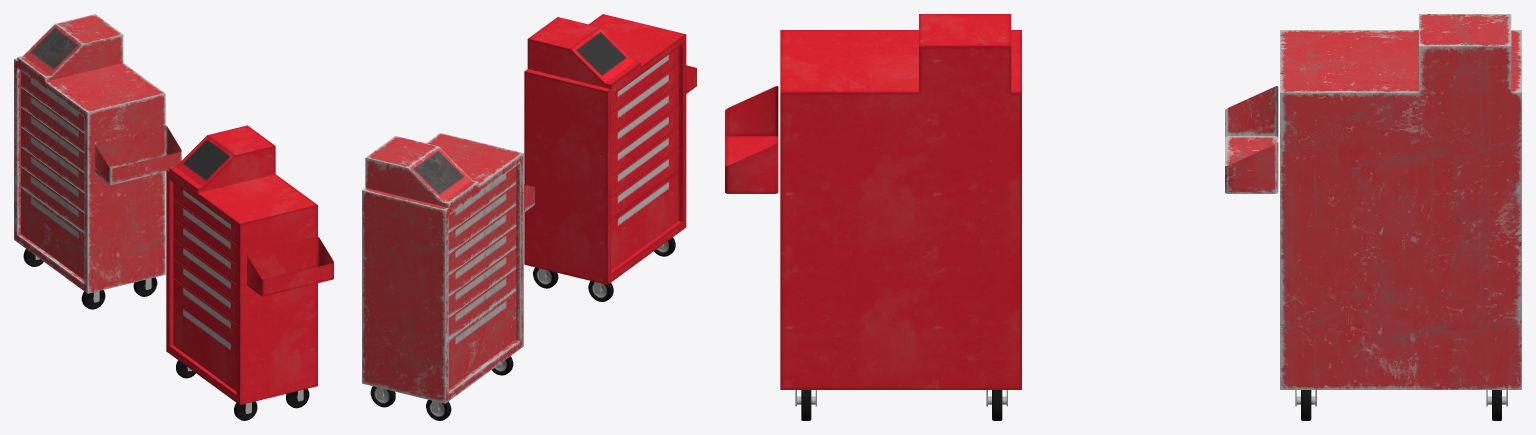
File: tool_trolleys.glb
The picture shows the model from 3 angles, left to right: view 1: azimuth 30°, elevation 25°; view 2: azimuth 150°, elevation 25°; view 3: azimuth 270°, elevation 25°; orthographic projection. The views are drawn at different scales.
Parts seen in each view (by area): view 1: SM_Tool_trolley_chassis, SM_Tool_trolley_chassis.001, SM_Tool_trolley_small_draw.001, SM_Tool_trolley_small_draw, SM_Tool_trolley.003, SM_Tool_trolley.001, SM_Tool_trolley_big_draw, SM_Tool_trolley_big_draw.001, SM_Tool_trolley_tire.002, SM_Tool_trolley_tire, SM_Tool_trolley_tire.006, SM_Tool_trolley_tire.003; view 2: SM_Tool_trolley_chassis.001, SM_Tool_trolley_chassis, SM_Tool_trolley_small_draw.001, SM_Tool_trolley_small_draw, SM_Tool_trolley_big_draw.001, SM_Tool_trolley_big_draw, SM_Tool_trolley_tire.005, SM_Tool_trolley_tire.001, SM_Tool_trolley_tire.007, SM_Tool_trolley_tire.004; view 3: SM_Tool_trolley_chassis, SM_Tool_trolley_chassis.001, SM_Tool_trolley.001, SM_Tool_trolley.003.
Boxes of the visible parts, box(x1,y1,x2,y2) form: SM_Tool_trolley_chassis: box(166, 125, 317, 404); SM_Tool_trolley_chassis.001: box(14, 14, 165, 293); SM_Tool_trolley_small_draw.001: box(21, 71, 84, 232); SM_Tool_trolley_small_draw: box(173, 183, 236, 343); SM_Tool_trolley.003: box(247, 236, 333, 296); SM_Tool_trolley.001: box(95, 125, 181, 184); SM_Tool_trolley_big_draw: box(173, 298, 236, 391); SM_Tool_trolley_big_draw.001: box(21, 186, 84, 279); SM_Tool_trolley_tire.002: box(81, 290, 105, 309); SM_Tool_trolley_tire: box(234, 401, 257, 420); SM_Tool_trolley_tire.006: box(133, 277, 157, 296); SM_Tool_trolley_tire.003: box(286, 388, 309, 408); SM_Tool_trolley_chassis.001: box(362, 133, 523, 403); SM_Tool_trolley_chassis: box(524, 14, 686, 284); SM_Tool_trolley_small_draw.001: box(448, 166, 516, 338); SM_Tool_trolley_small_draw: box(611, 47, 678, 219); SM_Tool_trolley_big_draw.001: box(448, 289, 516, 388); SM_Tool_trolley_big_draw: box(611, 170, 678, 270); SM_Tool_trolley_tire.005: box(426, 400, 451, 420); SM_Tool_trolley_tire.001: box(588, 281, 613, 301); SM_Tool_trolley_tire.007: box(370, 386, 395, 407); SM_Tool_trolley_tire.004: box(533, 267, 558, 288); SM_Tool_trolley_chassis: box(780, 14, 1021, 389); SM_Tool_trolley_chassis.001: box(1280, 14, 1521, 389); SM_Tool_trolley.001: box(1225, 86, 1278, 193); SM_Tool_trolley.003: box(725, 86, 778, 193).
Size of the model in its own units: 0.6 by 1.71 by 3.23.
Materials: 2 (2 with a texture image).
